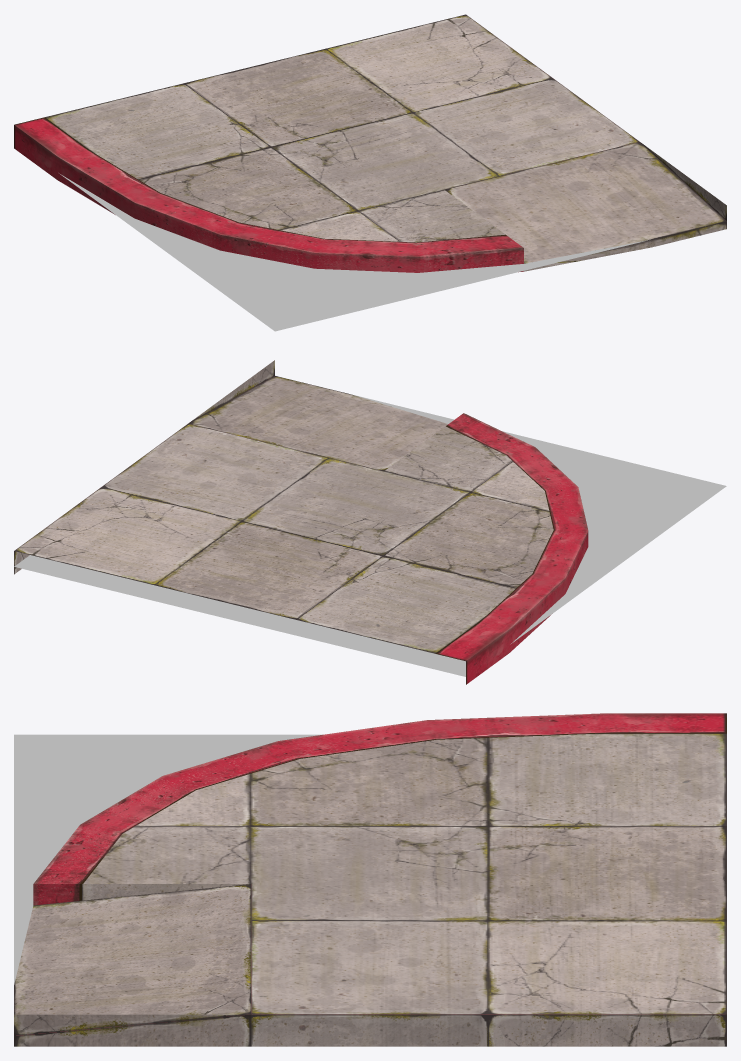
File: sidewalk02_cornerCrossR.fbx
3 renders of one model, top to bottom at view 1: azimuth 30°, elevation 25°; view 2: azimuth 150°, elevation 25°; view 3: azimuth 270°, elevation 25°, orthographic. The views are drawn at different scales.
Visible parts, largest first — view 1: sidewalk02_cornerCrossR; view 2: sidewalk02_cornerCrossR; view 3: sidewalk02_cornerCrossR.
Part boxes in pixels (box(x1,y1,x2,y2)): sidewalk02_cornerCrossR: box(14, 14, 726, 331); sidewalk02_cornerCrossR: box(14, 360, 726, 684); sidewalk02_cornerCrossR: box(14, 713, 726, 1046).
Size of the model in its own units: 300 by 15 by 300.
